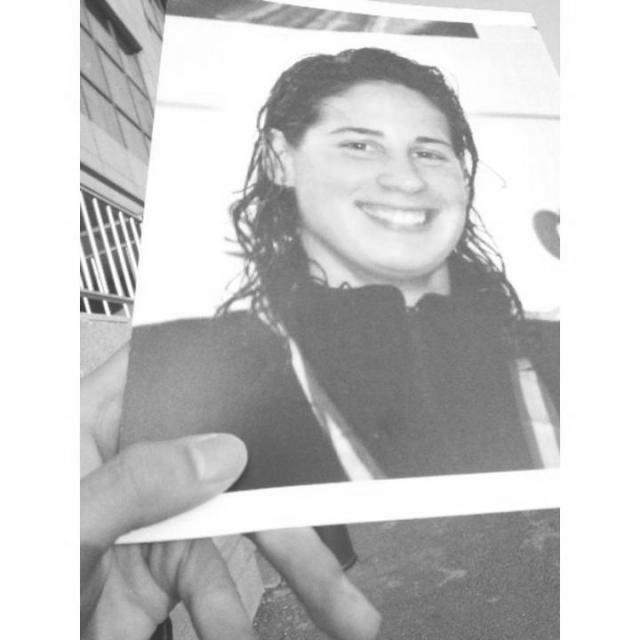fake: (105, 0, 559, 553)
